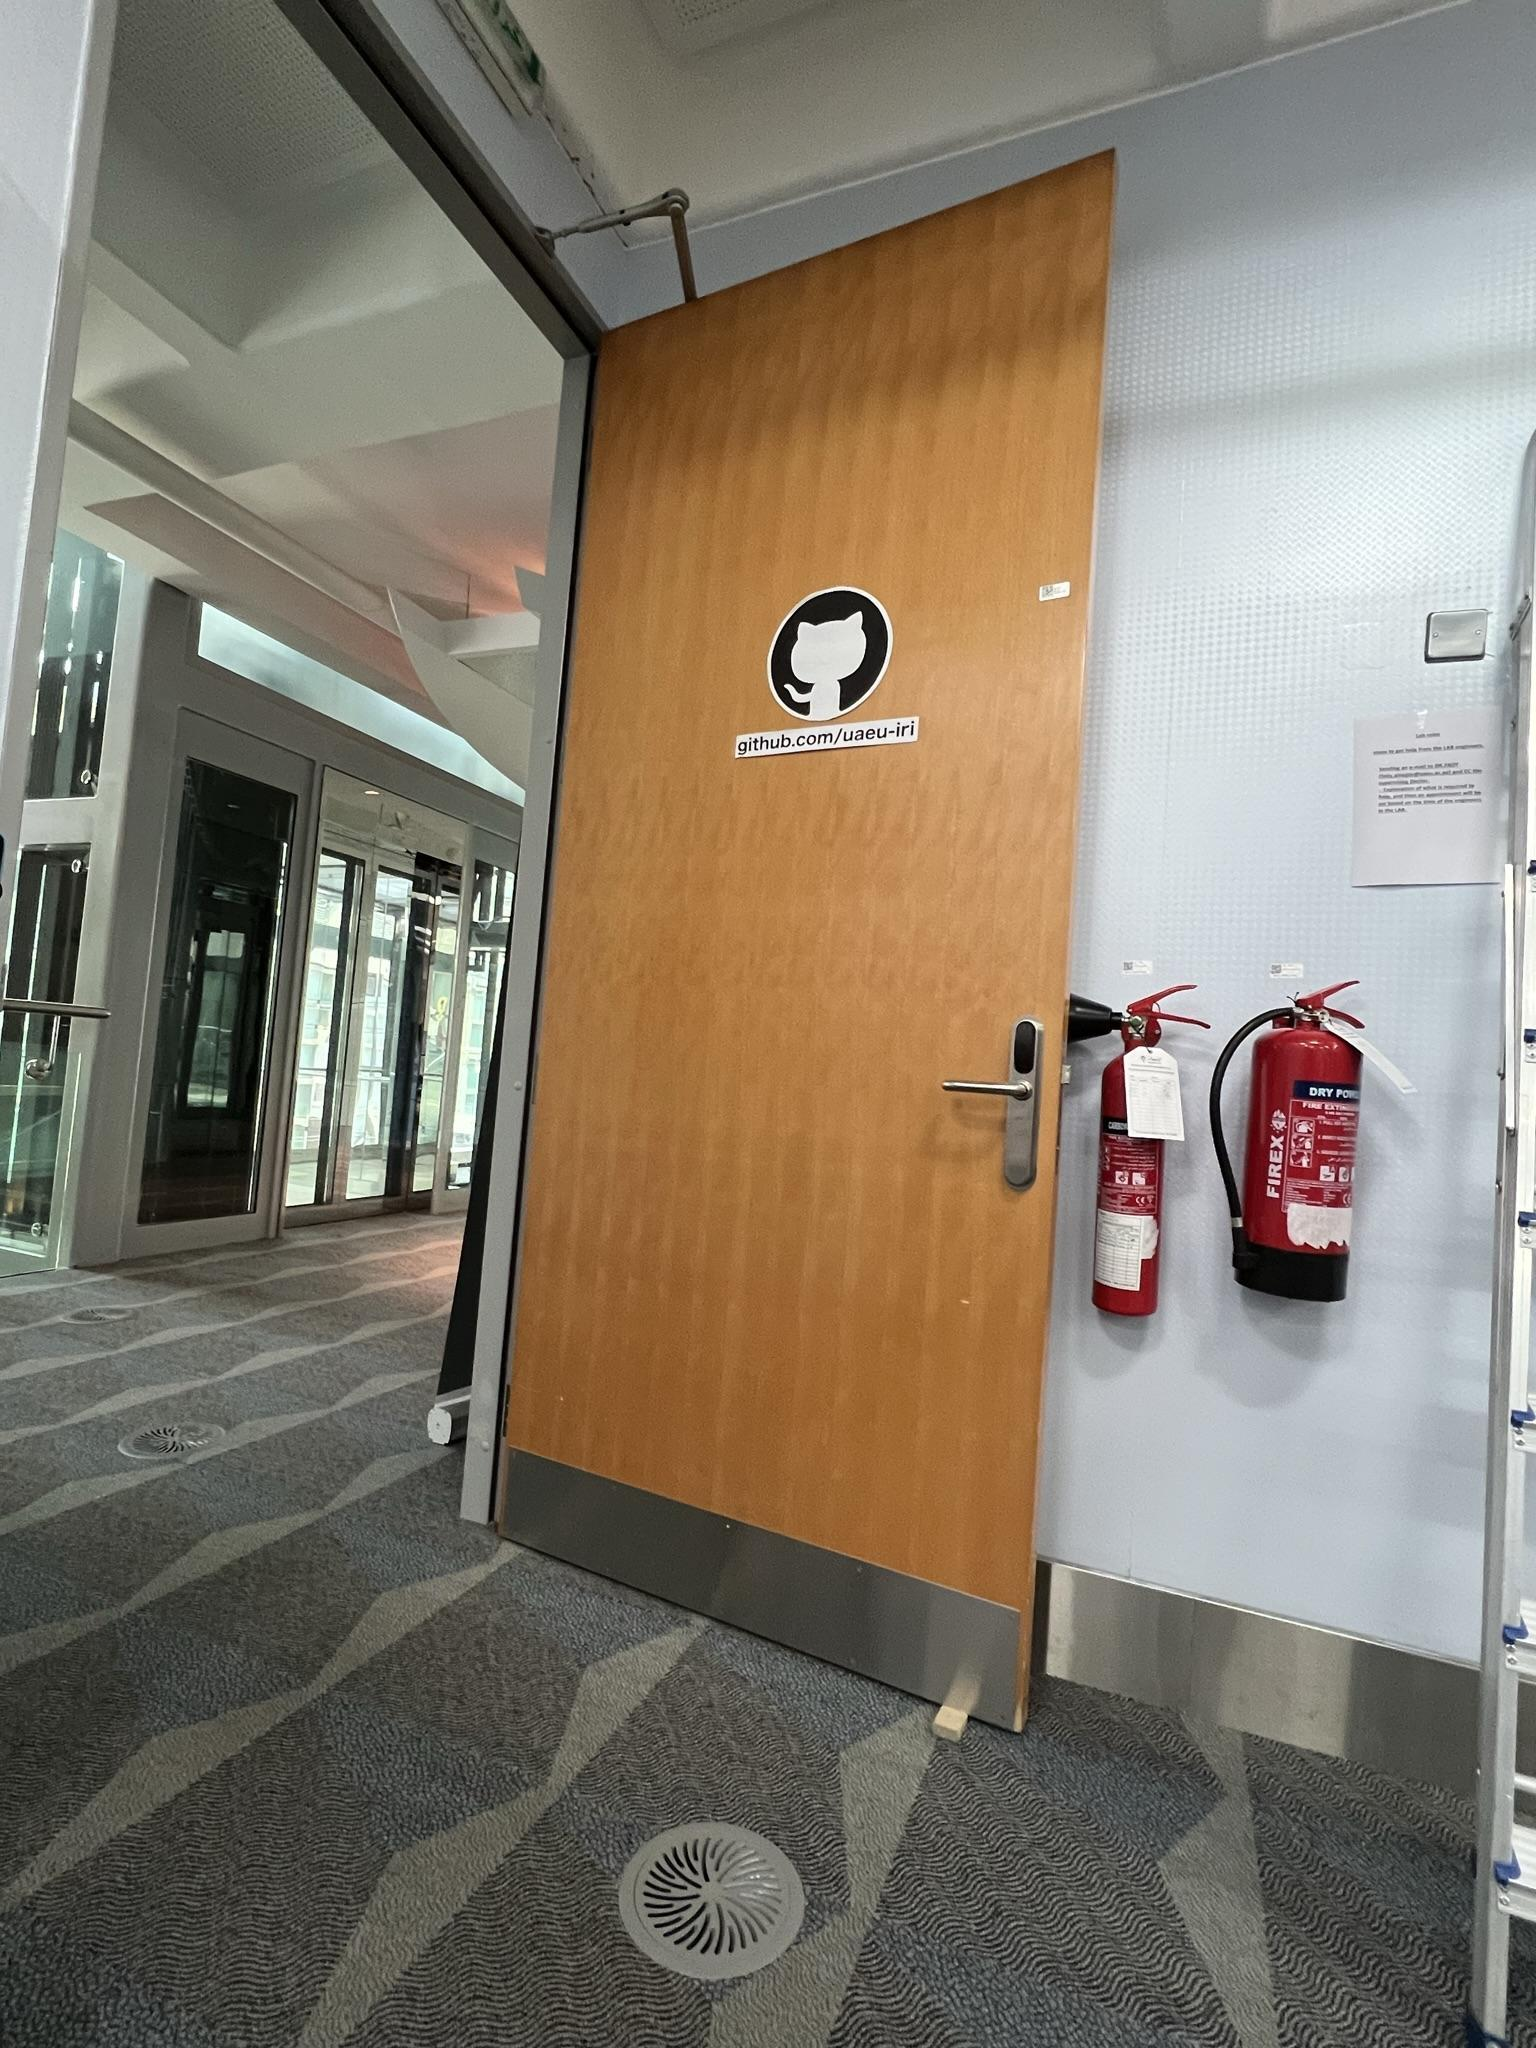door: (566, 266, 1105, 1638)
handle: (952, 1021, 1054, 1190)
